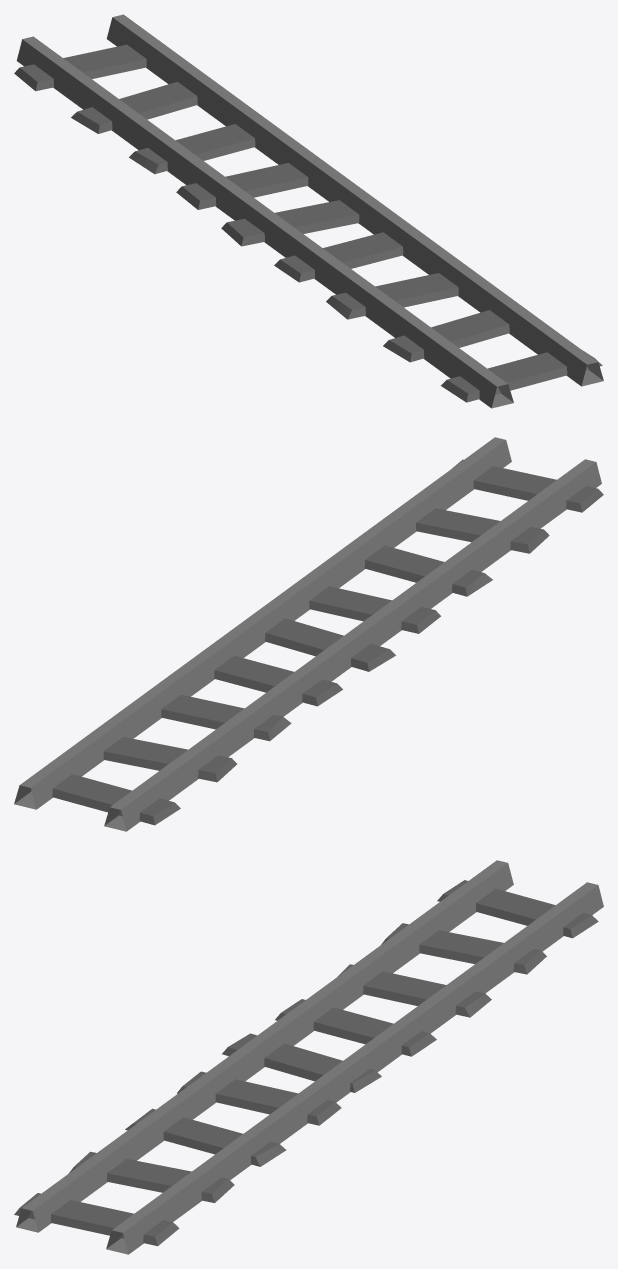
File: Ray_Straight_01.fbx
3 views of the same model, one above another, from view 1: azimuth 30°, elevation 25°; view 2: azimuth 150°, elevation 25°; view 3: azimuth 330°, elevation 25° (orthographic).
Parts seen in each view (by area): view 1: Ray_Straight_01; view 2: Ray_Straight_01; view 3: Ray_Straight_01.
Part boxes in pixels (<box>): Ray_Straight_01: <box>14,14,603,408</box>; Ray_Straight_01: <box>14,437,603,831</box>; Ray_Straight_01: <box>14,860,603,1254</box>.
Size of the model in its own units: 652 by 85.34 by 3601.
